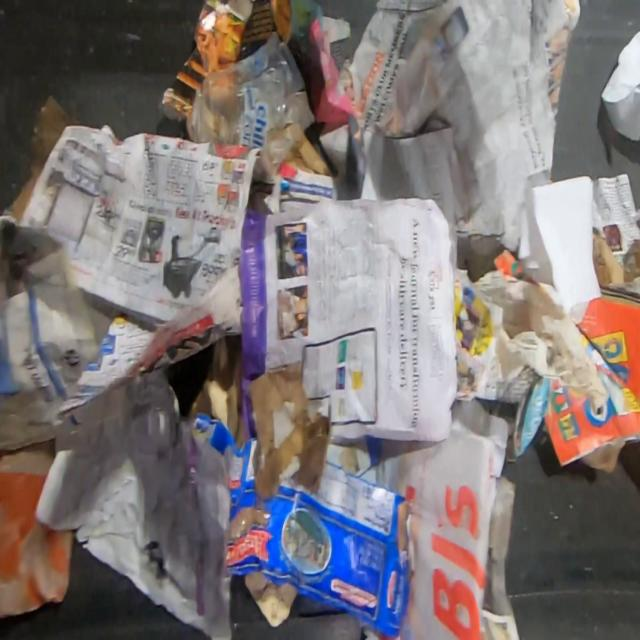cardboard: (192, 410, 418, 640), (10, 95, 70, 224)
rigid_plastic: (186, 31, 315, 167)
